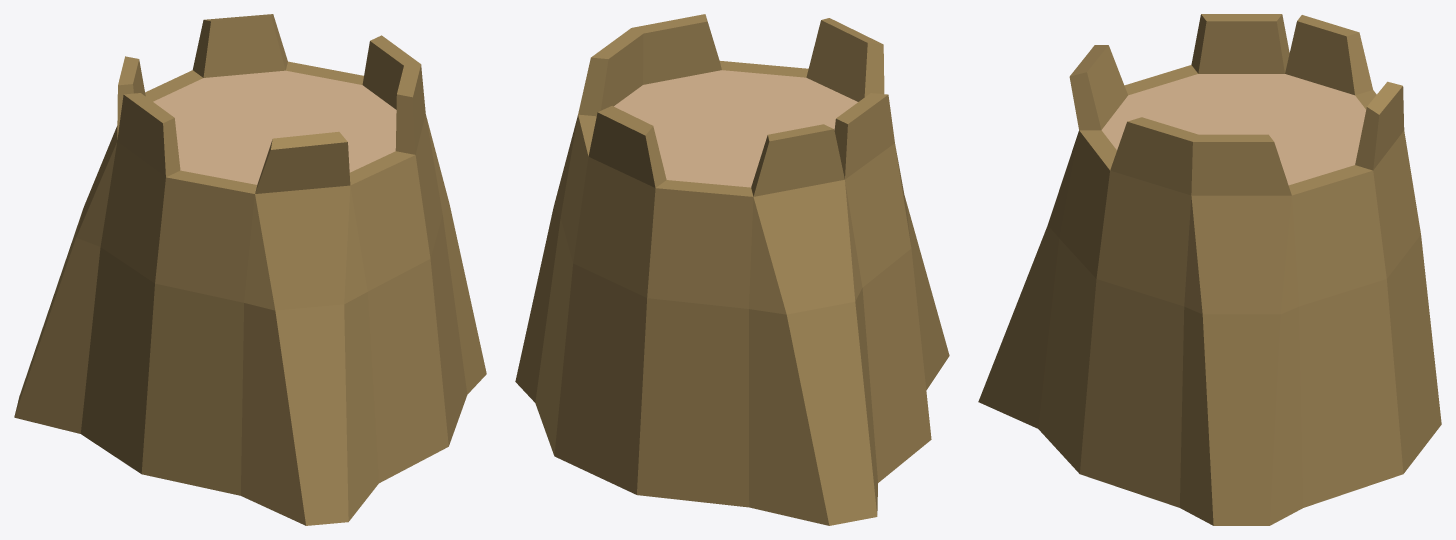
The model's file is Oak_Stump_06.fbx.
3 renders of one model, left to right at view 1: azimuth 30°, elevation 25°; view 2: azimuth 150°, elevation 25°; view 3: azimuth 270°, elevation 25°, orthographic. The views are drawn at different scales.
Parts seen in each view (by area): view 1: Oak_Stump_06; view 2: Oak_Stump_06; view 3: Oak_Stump_06.
Part boxes in pixels (bbox=[...]): Oak_Stump_06: bbox=[14, 14, 486, 525]; Oak_Stump_06: bbox=[515, 14, 949, 525]; Oak_Stump_06: bbox=[978, 14, 1441, 525].
Size of the model in its own units: 98.43 by 80.45 by 96.07.
